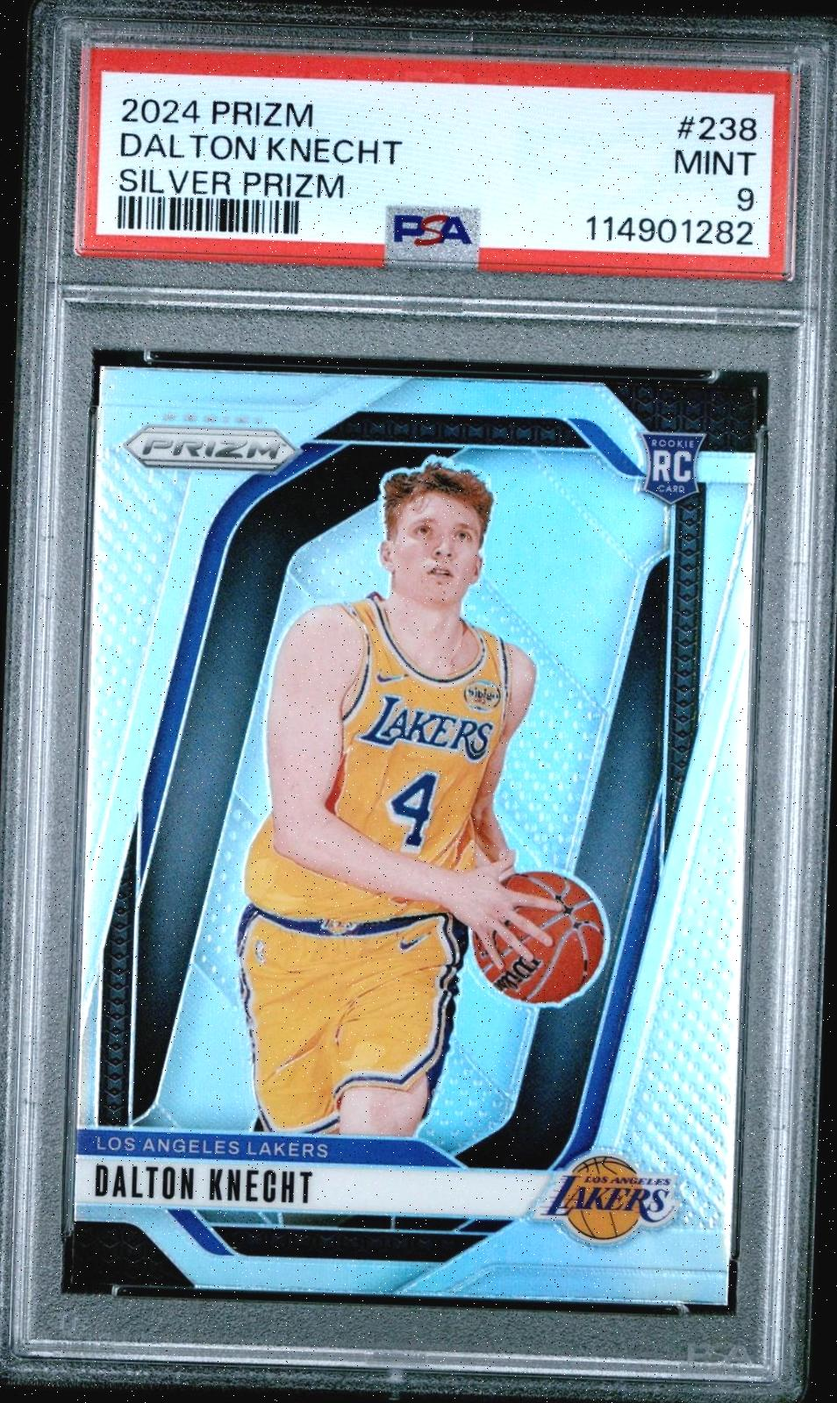card-2UtV: (70, 365, 758, 1306)
